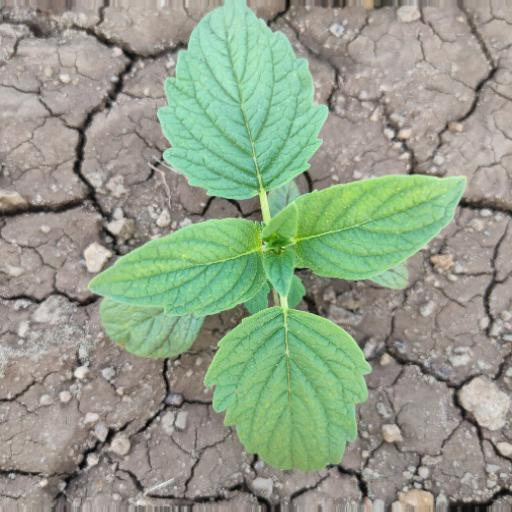crop: (62, 9, 475, 481)
